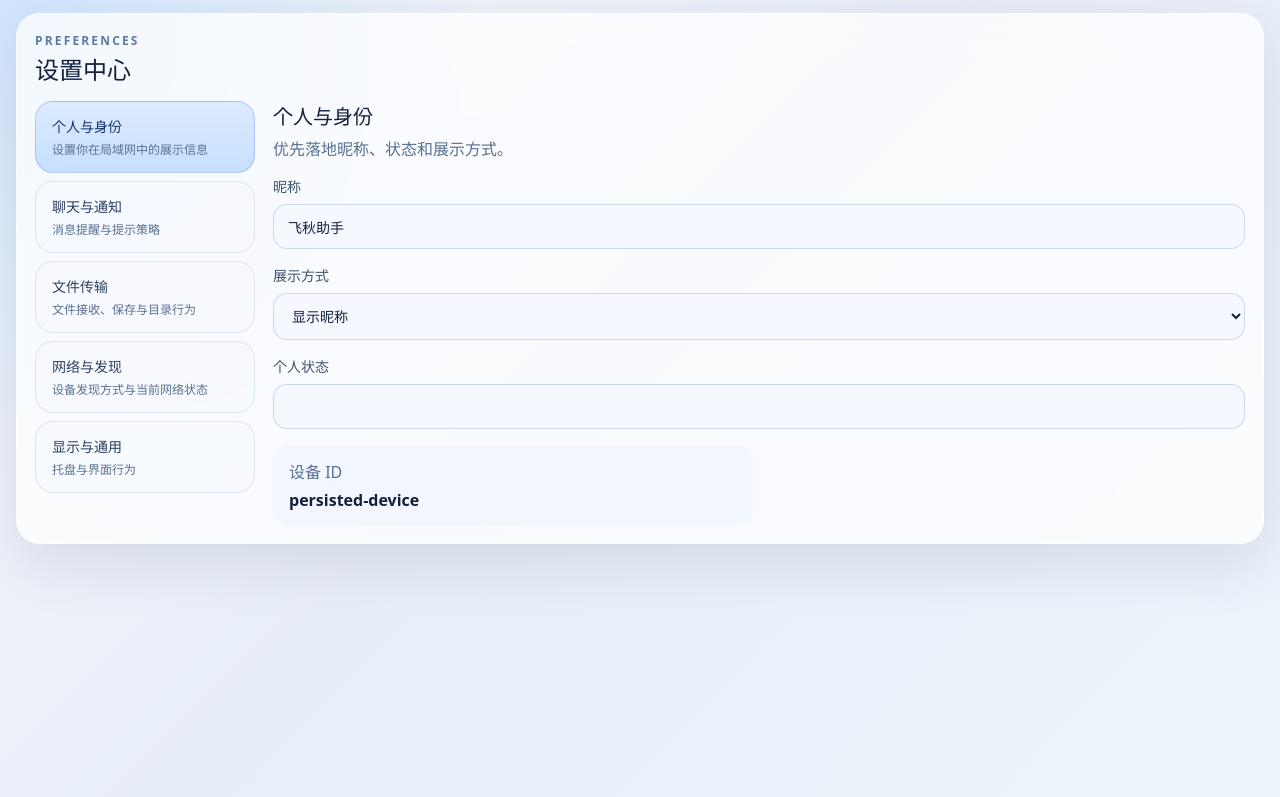
Test: uses success styling when refresh history has no failure
This screenshot has width=1280, height=797.
Click the button "网络与发现 设备发现方式与当前网络状态". click: click(145, 377)
box: [35,341,255,413]
(page scrolled)
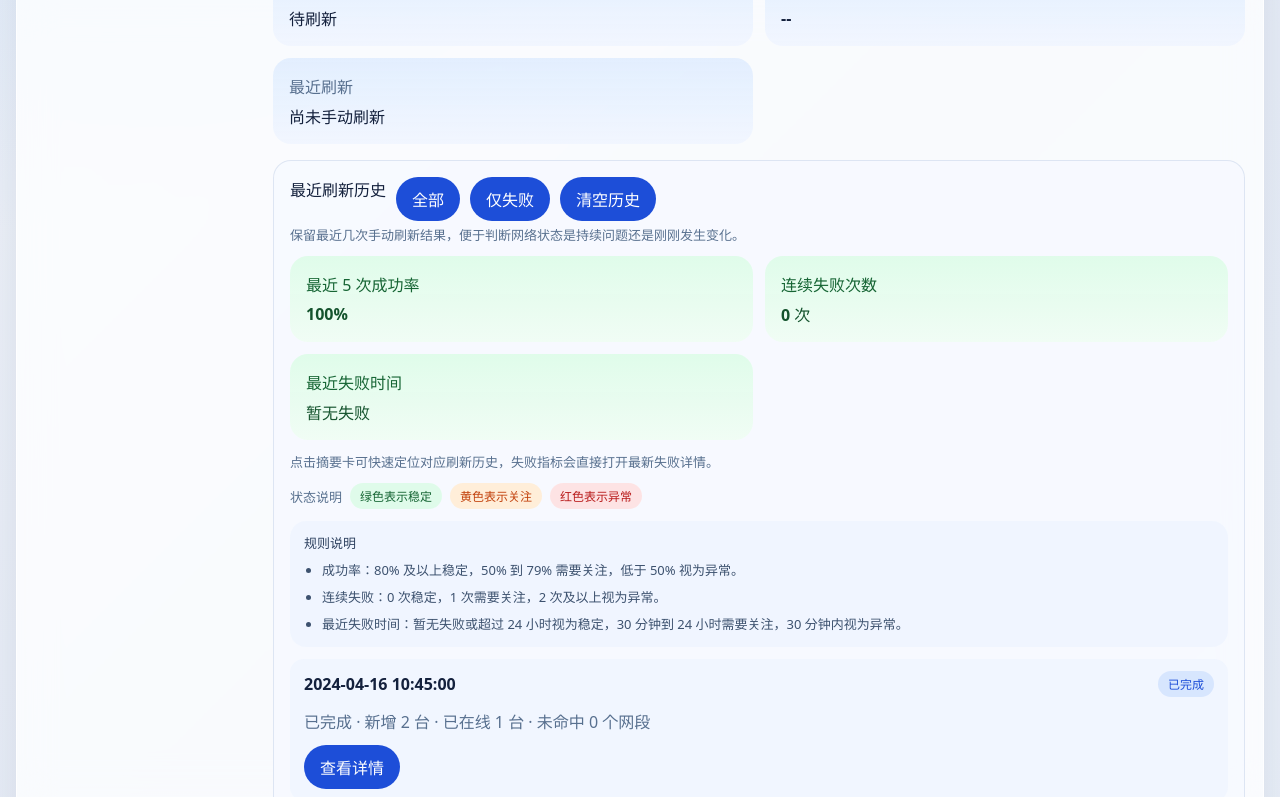
Expected: the text "暂无失败" is shown, [306,402,370,424]
